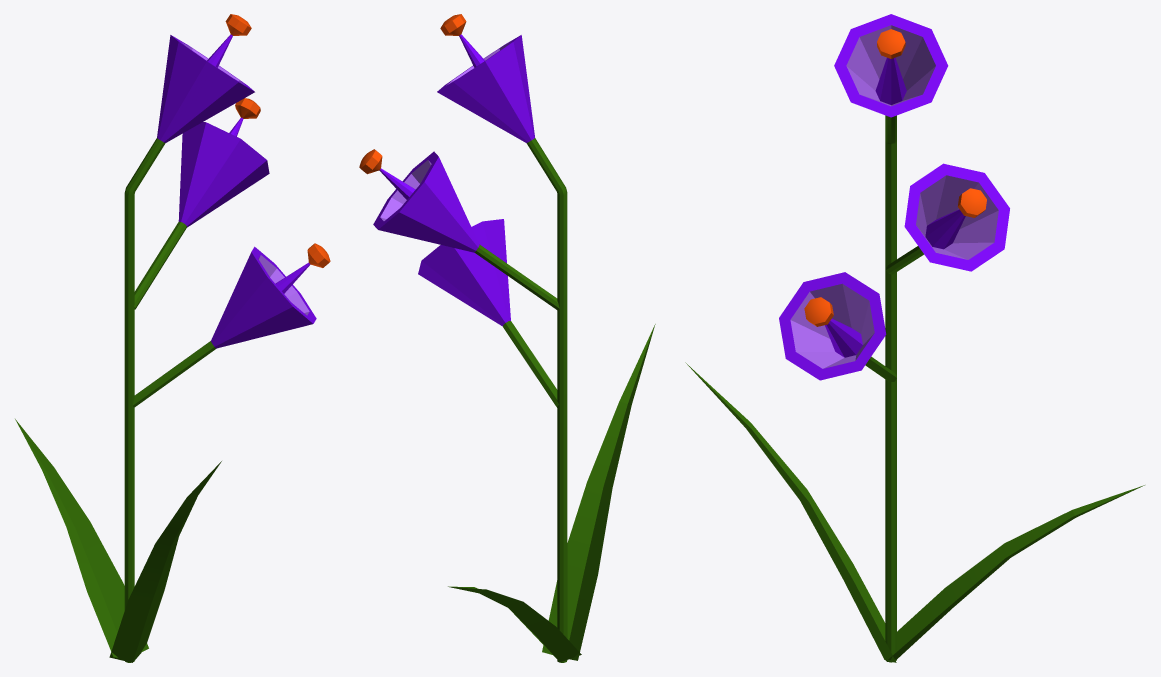
Rendered from flower3.fbx.
3 renders of one model, left to right at view 1: azimuth 30°, elevation 25°; view 2: azimuth 150°, elevation 25°; view 3: azimuth 270°, elevation 25°, orthographic. The views are drawn at different scales.
Parts seen in each view (by area): view 1: Cone_1, Cone_2, Cone, Polygon, Cylinder, Polygon_1, Cylinder_2, Cylinder_1; view 2: Polygon_1, Cone_1, Cone, Cylinder, Cone_2, Polygon, Cylinder_1, Cylinder_2; view 3: Cone_2, Cone_1, Cone, Cylinder, Polygon, Polygon_1.
Part boxes in pixels (x1,y1,x2,y2): Cone_1: (178, 98, 269, 227); Cone_2: (211, 243, 330, 348); Cone: (157, 14, 254, 142); Polygon: (15, 419, 148, 657); Cylinder: (124, 138, 165, 662); Polygon_1: (109, 461, 221, 662); Cylinder_2: (132, 341, 215, 407); Cylinder_1: (134, 221, 186, 309); Polygon_1: (542, 324, 655, 660); Cone_1: (359, 149, 479, 252); Cone: (437, 14, 534, 142); Cylinder: (526, 138, 567, 662); Cone_2: (418, 219, 510, 326); Polygon: (448, 586, 581, 661); Cylinder_1: (474, 244, 559, 310); Cylinder_2: (503, 321, 558, 407); Cone_2: (779, 272, 886, 380); Cone_1: (904, 163, 1009, 271); Cone: (834, 14, 948, 117); Cylinder: (885, 115, 896, 662); Polygon: (888, 485, 1144, 659); Polygon_1: (685, 362, 896, 662).
Size of the model in its own units: 20.76 by 66.29 by 40.45.
